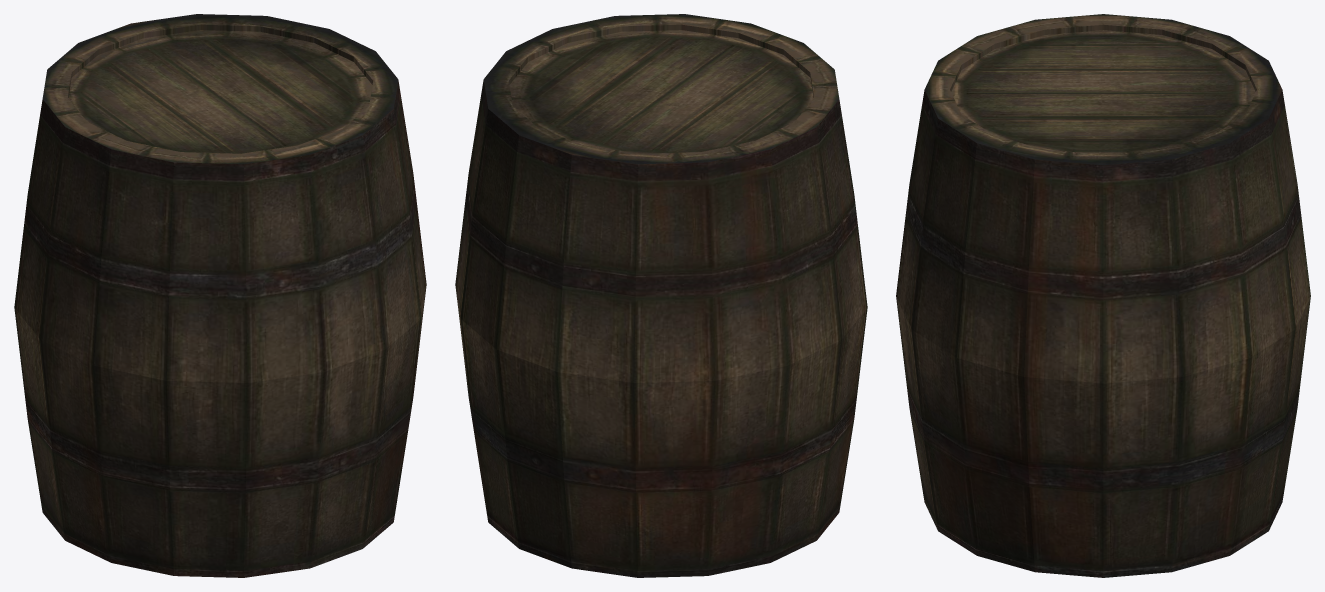
The model's file is barril.fbx.
The picture shows the model from 3 angles, left to right: view 1: azimuth 30°, elevation 25°; view 2: azimuth 150°, elevation 25°; view 3: azimuth 270°, elevation 25°; orthographic projection.
Visible parts, largest first — view 1: barril; view 2: barril; view 3: barril.
Part boxes in pixels (<box>): barril: <box>14,14,426,577</box>; barril: <box>455,14,867,577</box>; barril: <box>896,14,1310,577</box>.
Size of the model in its own units: 232 by 255 by 232.
1 material, 1 textured.
